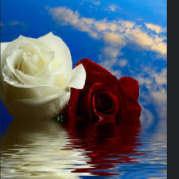RedRose: (67, 57, 151, 134)
